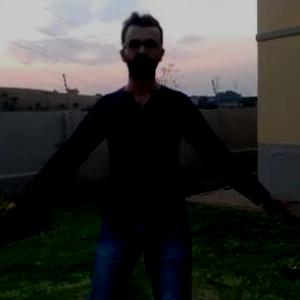land: (9, 19, 274, 291)
